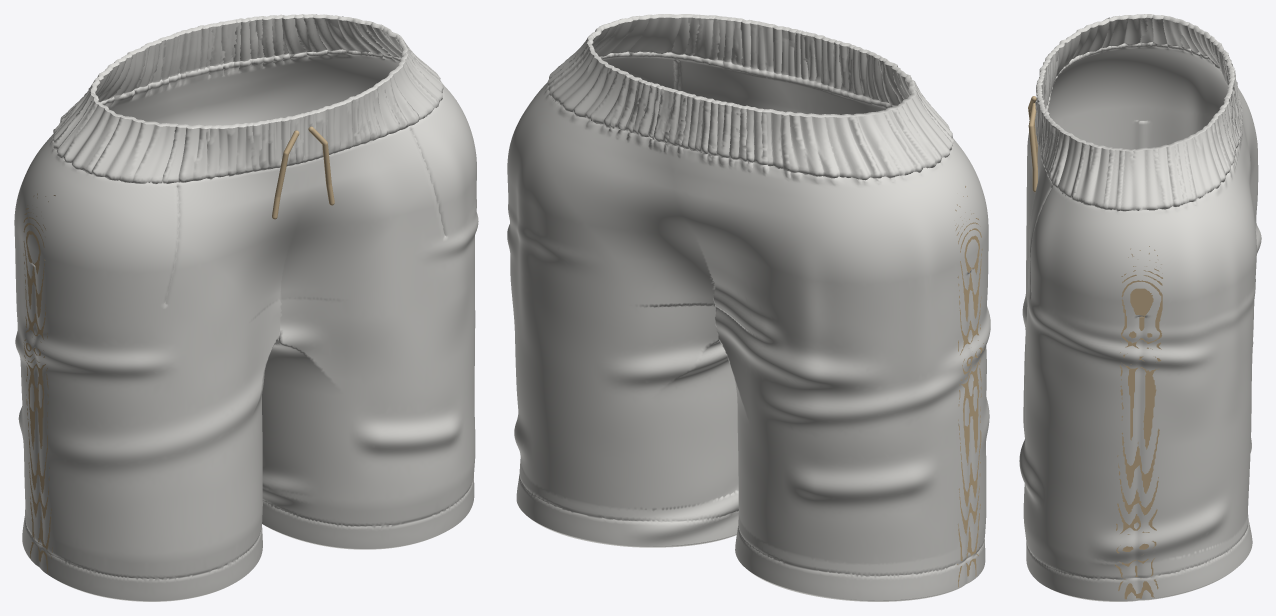
File: 05_shorts_baloncesto.glb
The picture shows the model from 3 angles, left to right: view 1: azimuth 30°, elevation 25°; view 2: azimuth 150°, elevation 25°; view 3: azimuth 270°, elevation 25°; orthographic projection. The views are drawn at different scales.
Parts seen in each view (by area): view 1: body, trim; view 2: body, trim; view 3: body, trim.
Boxes of the visible parts, <box> form: body: <box>14,14,478,601</box>; trim: <box>23,126,334,572</box>; body: <box>507,14,990,601</box>; trim: <box>955,186,984,587</box>; body: <box>1019,14,1261,601</box>; trim: <box>1028,96,1162,599</box>.
Size of the model in its own units: 0.5722 by 0.5907 by 0.2955.
